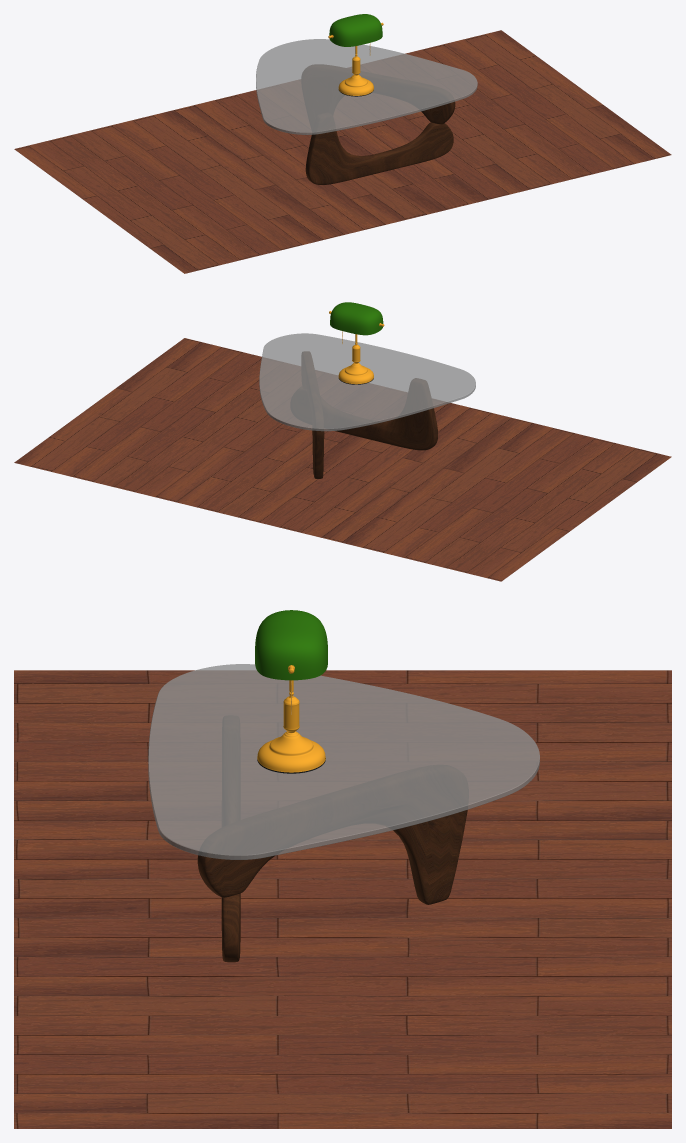
The model's file is Green_Glass_Study_Lamp_InScene_Draco.glb.
The picture shows the model from 3 angles, top to bottom: view 1: azimuth 30°, elevation 25°; view 2: azimuth 150°, elevation 25°; view 3: azimuth 270°, elevation 25°; orthographic projection. The views are drawn at different scales.
Visible parts, largest first — view 1: Extras, Cube.001, Plane; view 2: Extras, Cube.001, Plane; view 3: Extras, Cube.001, Plane.
Part boxes in pixels (x1=…): Extras: x1=14, y1=30, x2=671, y2=273; Cube.001: x1=329, y1=14, x2=382, y2=46; Plane: x1=338, y1=46, x2=373, y2=96; Extras: x1=14, y1=333, x2=671, y2=581; Cube.001: x1=330, y1=302, x2=383, y2=335; Plane: x1=338, y1=334, x2=373, y2=384; Extras: x1=14, y1=664, x2=671, y2=1128; Cube.001: x1=255, y1=610, x2=327, y2=680; Plane: x1=257, y1=680, x2=325, y2=773.
Bounding box in the file's own units: 2.94 × 0.8251 × 1.78.
Materials: 8 (2 with a texture image).
